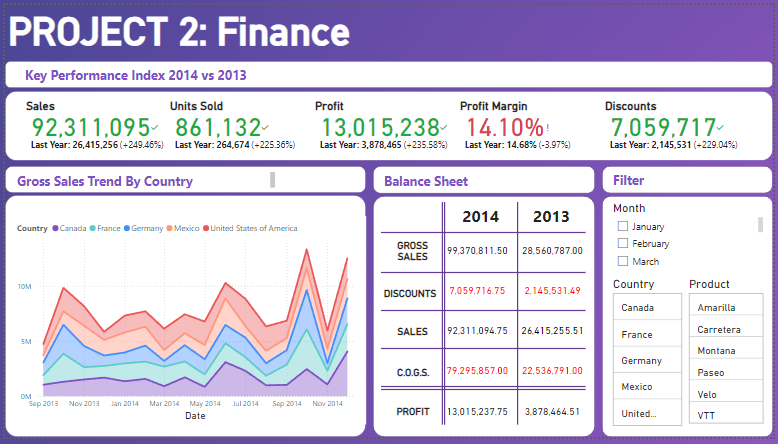

The dashboard page shown, as its layout file describes it:
{"tool":"powerbi","page":{"name":"Page 1","canvas":[1280,720],"ordinal":0},"visuals":[{"type":"shape","box":[995,318.3,285,401.7],"z":0},{"type":"shape","box":[0,93.3,1280,45],"z":1000},{"type":"shape","box":[0,142.6,1280,116.2],"z":2000},{"type":"kpi","title":"Sales","fields":{"TrendLine":["Date_tbl.Year"],"Goal":["Analysis.2023 Sales"],"Indicator":["Analysis.Sales"]},"box":[29.2,156.2,241.4,91.4],"z":3000},{"type":"kpi","title":"Units Sold","fields":{"TrendLine":["Date_tbl.Year"],"Indicator":["Analysis.Units Sold"],"Goal":["Analysis.2023 Units Sold"]},"box":[270.7,156.2,241.4,91.4],"z":4000},{"type":"kpi","title":"Profit","fields":{"TrendLine":["Date_tbl.Year"],"Indicator":["Analysis.Profit"],"Goal":["Analysis.2023 Profit"]},"box":[512.1,156.2,241.4,91.4],"z":5000},{"type":"kpi","title":"Profit Margin","fields":{"TrendLine":["Date_tbl.Year"],"Goal":["Analysis.2023 Profit Margin"],"Indicator":["Analysis.Profit Margin"]},"box":[753.5,156.2,241.4,91.4],"z":6000},{"type":"kpi","title":"Discounts","fields":{"TrendLine":["Date_tbl.Year"],"Indicator":["Analysis.Discounts"],"Goal":["Analysis.2023 Discounts"]},"box":[994.9,156.2,241.4,91.4],"z":7000},{"type":"textbox","box":[28.3,96.7,426.7,40],"z":8000},{"type":"advancedSlicerVisual","fields":{"Values":["Sheet1.Product"]},"box":[1134.3,452.9,134.3,254.3],"z":9000},{"type":"advancedSlicerVisual","fields":{"Values":["Sheet1.Country"]},"box":[1008.6,452.9,125.7,254.3],"z":10000},{"type":"shape","box":[613.1,318.5,370,401.5],"z":11000},{"type":"shape","box":[613.3,268.3,370,45.8],"z":12000},{"type":"textbox","box":[627.1,272.9,301.4,38.6],"z":13000},{"type":"slicer","title":"Month","fields":{"Values":["Sheet1.Month Name"]},"box":[1008.6,327.1,260,125.7],"z":14000},{"type":"shape","box":[995.6,268.9,284.4,45.6],"z":15000},{"type":"textbox","box":[1008.3,272.2,246.7,38.3],"z":16000},{"type":"card","fields":{"Values":["Analysis.2014 GrossSales"]},"box":[730.8,390,114.2,40],"z":17000},{"type":"card","fields":{"Values":["Analysis.2023 Gross Sales"]},"box":[855,390,115,40],"z":18000},{"type":"textbox","box":[732,328,122,47],"z":19000},{"type":"textbox","box":[854,328,115,47],"z":20000},{"type":"textbox","box":[626.2,385.4,105.4,53.8],"z":21000},{"type":"card","fields":{"Values":["Analysis.2014 Discount"]},"box":[730.8,456.9,114.6,40],"z":22000},{"type":"card","fields":{"Values":["Analysis.2023 Discounts"]},"box":[854.5,456.9,115.5,40],"z":23000},{"type":"textbox","box":[621.1,464.4,106.7,38.9],"z":24000},{"type":"card","fields":{"Values":["Analysis.2014 sales"]},"box":[730.8,523.8,115,40],"z":25000},{"type":"card","fields":{"Values":["Analysis.2023 Sales"]},"box":[855,523.8,115,40],"z":26000},{"type":"textbox","box":[626.2,527.5,105,35],"z":27000},{"type":"card","fields":{"Values":["Analysis.2024 COGS"]},"box":[730.8,590.8,114.5,40],"z":28000},{"type":"card","fields":{"Values":["Analysis.2013 COGS"]},"box":[855.5,590.8,114.5,40],"z":29000},{"type":"textbox","box":[626,596,107,38],"z":30000},{"type":"card","fields":{"Values":["Analysis.2014 Profit"]},"box":[730.8,657.7,114.6,40],"z":31000},{"type":"card","fields":{"Values":["Analysis.2013 Profit"]},"box":[855.4,657.7,114.6,40],"z":32000},{"type":"textbox","box":[626.9,662.3,106.9,37.7],"z":33000},{"type":"shape","box":[626,371,341,15],"z":34000},{"type":"shape","box":[626,438.4,341,15],"z":35000},{"type":"shape","box":[626,628.6,341,15],"z":36000},{"type":"shape","box":[626,565.2,341,15],"z":37000},{"type":"shape","box":[626,501.8,341,15],"z":38000},{"type":"shape","box":[727,329,12,371],"z":39000},{"type":"shape","box":[849,329,12,371],"z":40000},{"type":"shape","box":[723.8,328.8,11.2,371.2],"z":41000},{"type":"shape","box":[626.2,633.8,341.2,15],"z":42000},{"type":"shape","box":[0,316.7,601.7,403.3],"z":43000},{"type":"shape","box":[0,268.9,601.7,45],"z":44000},{"type":"stackedAreaChart","fields":{"Category":["Sheet1.Date"],"Y":["Sum(Sheet1.Gross Sales)"],"Series":["Sheet1.Country"]},"box":[15,351.7,586.7,346.7],"z":45000},{"type":"textbox","box":[15.7,272.9,440,37.1],"z":46000},{"type":"textbox","box":[0,0,913.3,93.3],"z":46001}]}

Visuals, with their boxes in screenshot pixels (x1, y1, x2, y2), scaled from the page's 1280x720 canvas onto the 778x444 screenshot:
shape: [x1=605, y1=196, x2=777, y2=443]
shape: [x1=0, y1=58, x2=777, y2=85]
shape: [x1=0, y1=88, x2=777, y2=160]
"Sales" kpi: [x1=18, y1=96, x2=164, y2=153]
"Units Sold" kpi: [x1=165, y1=96, x2=311, y2=153]
"Profit" kpi: [x1=311, y1=96, x2=458, y2=153]
"Profit Margin" kpi: [x1=458, y1=96, x2=605, y2=153]
"Discounts" kpi: [x1=605, y1=96, x2=751, y2=153]
textbox: [x1=17, y1=60, x2=277, y2=84]
advancedSlicerVisual - Sheet1.Product: [x1=689, y1=279, x2=771, y2=436]
advancedSlicerVisual - Sheet1.Country: [x1=613, y1=279, x2=689, y2=436]
shape: [x1=373, y1=196, x2=598, y2=443]
shape: [x1=373, y1=165, x2=598, y2=194]
textbox: [x1=381, y1=168, x2=564, y2=192]
"Month" slicer: [x1=613, y1=202, x2=771, y2=279]
shape: [x1=605, y1=166, x2=777, y2=194]
textbox: [x1=613, y1=168, x2=763, y2=191]
card - Analysis.2014 GrossSales: [x1=444, y1=240, x2=514, y2=265]
card - Analysis.2023 Gross Sales: [x1=520, y1=240, x2=590, y2=265]
textbox: [x1=445, y1=202, x2=519, y2=231]
textbox: [x1=519, y1=202, x2=589, y2=231]
textbox: [x1=381, y1=238, x2=445, y2=271]
card - Analysis.2014 Discount: [x1=444, y1=282, x2=514, y2=306]
card - Analysis.2023 Discounts: [x1=519, y1=282, x2=590, y2=306]
textbox: [x1=378, y1=286, x2=442, y2=310]
card - Analysis.2014 sales: [x1=444, y1=323, x2=514, y2=348]
card - Analysis.2023 Sales: [x1=520, y1=323, x2=590, y2=348]
textbox: [x1=381, y1=325, x2=444, y2=347]
card - Analysis.2024 COGS: [x1=444, y1=364, x2=514, y2=389]
card - Analysis.2013 COGS: [x1=520, y1=364, x2=590, y2=389]
textbox: [x1=380, y1=368, x2=446, y2=391]
card - Analysis.2014 Profit: [x1=444, y1=406, x2=514, y2=430]
card - Analysis.2013 Profit: [x1=520, y1=406, x2=590, y2=430]
textbox: [x1=381, y1=408, x2=446, y2=432]
shape: [x1=380, y1=229, x2=588, y2=238]
shape: [x1=380, y1=270, x2=588, y2=280]
shape: [x1=380, y1=388, x2=588, y2=397]
shape: [x1=380, y1=349, x2=588, y2=358]
shape: [x1=380, y1=309, x2=588, y2=319]
shape: [x1=442, y1=203, x2=449, y2=432]
shape: [x1=516, y1=203, x2=523, y2=432]
shape: [x1=440, y1=203, x2=447, y2=432]
shape: [x1=381, y1=391, x2=588, y2=400]
shape: [x1=0, y1=195, x2=366, y2=443]
shape: [x1=0, y1=166, x2=366, y2=194]
stackedAreaChart - Sheet1.Date x Sum(Sheet1.Gross Sales): [x1=9, y1=217, x2=366, y2=431]
textbox: [x1=10, y1=168, x2=277, y2=191]
textbox: [x1=0, y1=0, x2=555, y2=58]
